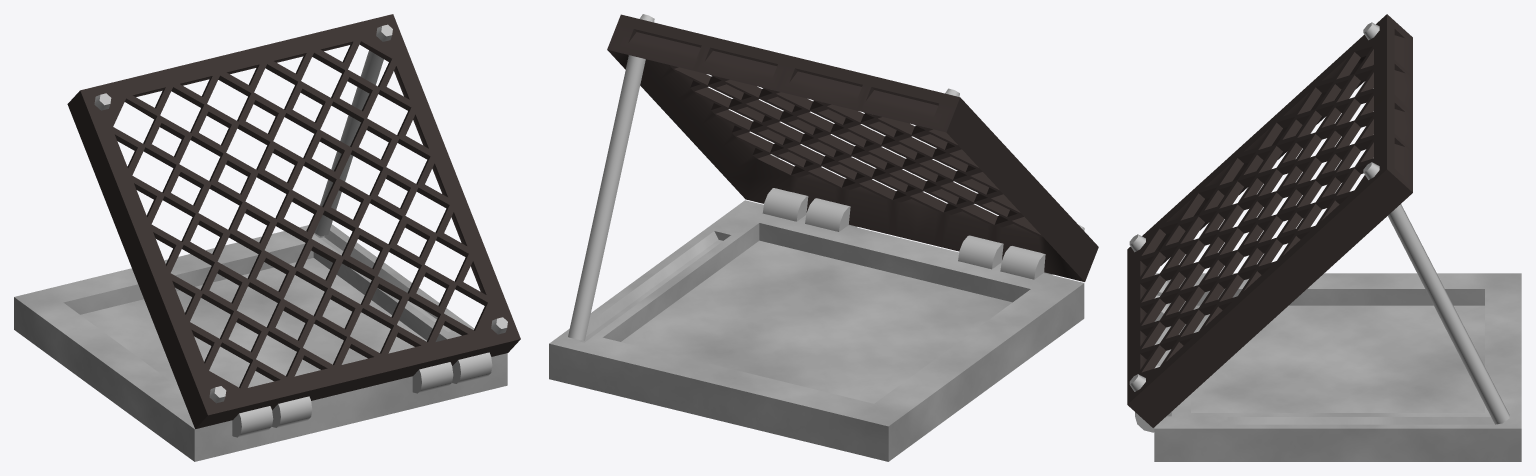
Rendered from End goal night.FBX.
3 renders of one model, left to right at view 1: azimuth 30°, elevation 25°; view 2: azimuth 150°, elevation 25°; view 3: azimuth 270°, elevation 25°, orthographic. The views are drawn at different scales.
Parts seen in each view (by area): view 1: Object, Box002, Cylinder001, Cylinder007, Cylinder005, Cylinder006, Cylinder008, Tips; view 2: Box002, Object, Cylinder001, Cylinder007, Cylinder005, Cylinder006, Cylinder008; view 3: Object, Box002, Cylinder001, Tips.
Boxes of the visible parts, box(x1,y1,x2,y2) form: Object: box(67, 14, 520, 428); Box002: box(14, 224, 507, 461); Cylinder001: box(314, 50, 383, 236); Cylinder007: box(412, 362, 453, 393); Cylinder005: box(232, 406, 273, 437); Cylinder006: box(272, 396, 312, 427); Cylinder008: box(452, 352, 492, 383); Tips: box(94, 24, 507, 403); Box002: box(549, 200, 1084, 461); Object: box(607, 14, 1098, 281); Cylinder001: box(568, 55, 645, 340); Cylinder007: box(805, 198, 857, 231); Cylinder005: box(1000, 246, 1052, 279); Cylinder006: box(958, 235, 1003, 269); Cylinder008: box(762, 188, 808, 221); Object: box(1127, 14, 1412, 427); Box002: box(1154, 273, 1521, 461); Cylinder001: box(1388, 204, 1509, 424); Tips: box(1129, 22, 1379, 391).
Bounding box in the file's own units: 37.9 × 33.31 × 40.7.
3 materials, 3 textured.
